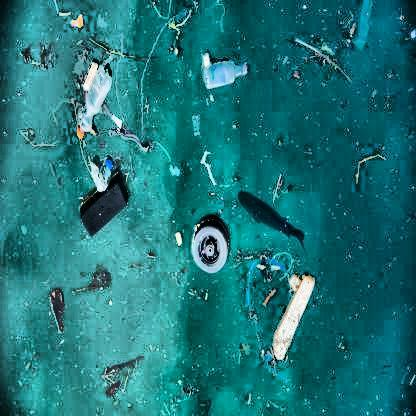Glass: (85, 153, 108, 194)
Plastic: (71, 62, 114, 144), (194, 49, 248, 89)
Trash: (269, 275, 319, 363), (188, 219, 229, 276)
